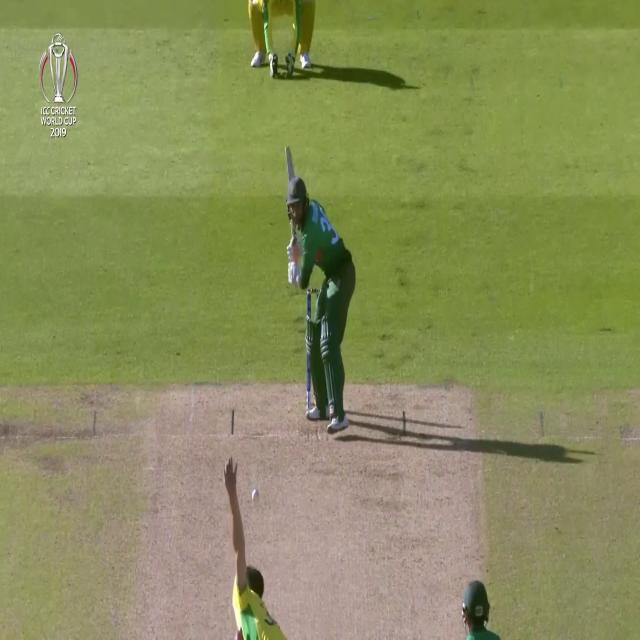ball: (252, 484, 262, 503)
